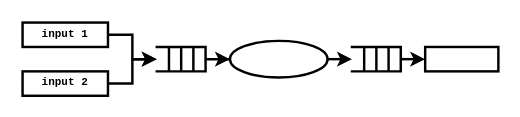
Some shapes in this 520 by 117 pixel diagram are drawn without their labels. Here are the shapes that lost their labels. From the top down, the centre of each, then its label:
At [278,58]: "process".
At [461,58]: "output".
